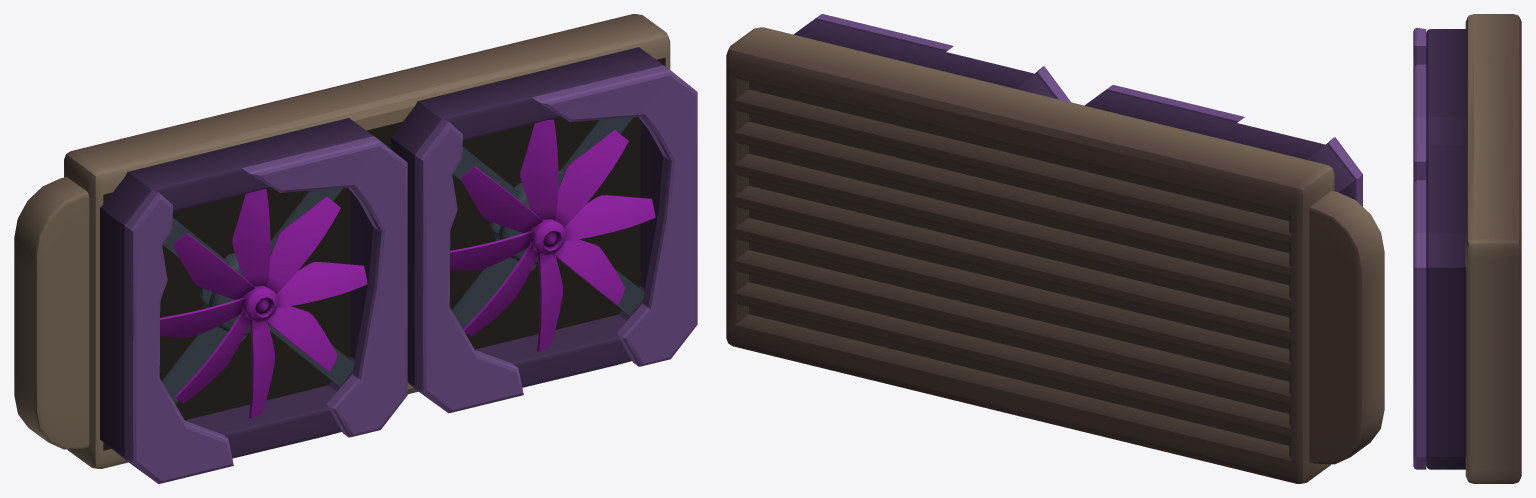
Rendered from Cooling_systems_lvl_10_V02.fbx.
The picture shows the model from 3 angles, left to right: view 1: azimuth 30°, elevation 25°; view 2: azimuth 150°, elevation 25°; view 3: azimuth 270°, elevation 25°; orthographic projection. The views are drawn at different scales.
Parts seen in each view (by area): view 1: Body_Cooling, Fan_Cooling_01.001, Fan_Cooling_01; view 2: Body_Cooling; view 3: Body_Cooling.
Part boxes in pixels (x1,y1,x2,y2): Body_Cooling: (14,14,697,483); Fan_Cooling_01.001: (450,119,655,351); Fan_Cooling_01: (160,189,367,418); Body_Cooling: (726,14,1384,483); Body_Cooling: (1413,14,1521,483).
Bounding box in the file's own units: 119 × 53.89 × 21.63.
